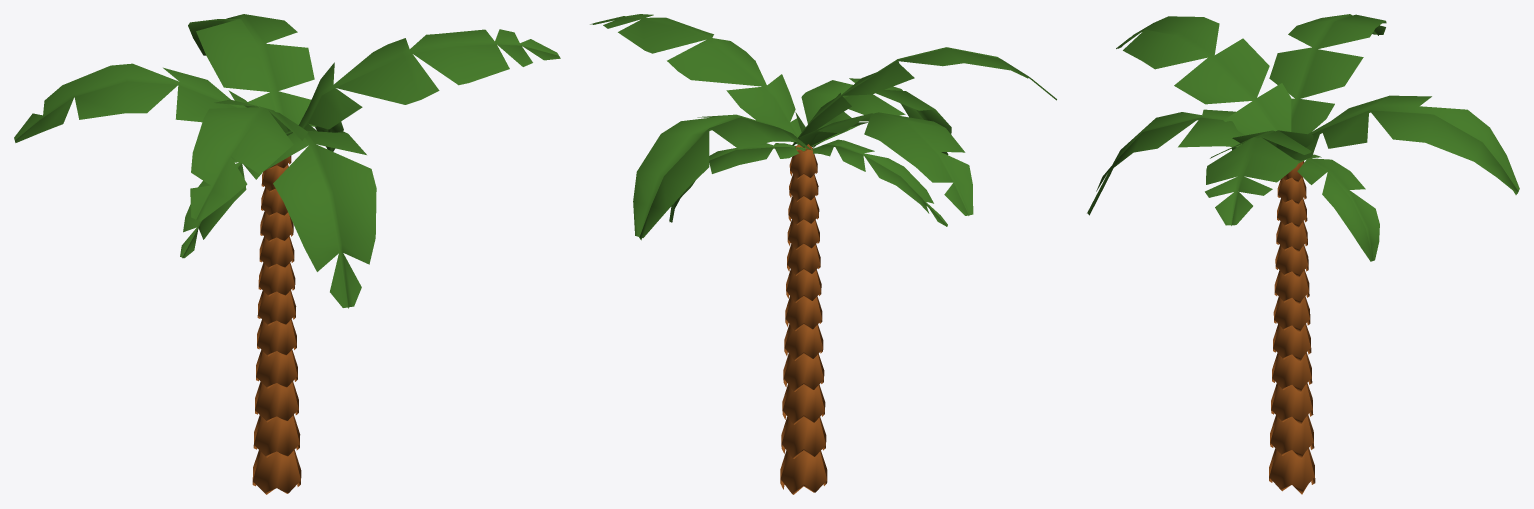
The model's file is SM_Palm_Tree_D.fbx.
3 views of the same model, side by side, from view 1: azimuth 30°, elevation 25°; view 2: azimuth 150°, elevation 25°; view 3: azimuth 270°, elevation 25° (orthographic). The views are drawn at different scales.
Visible parts, largest first — view 1: SM_Palm_Tree_D.001; view 2: SM_Palm_Tree_D.001; view 3: SM_Palm_Tree_D.001.
Part boxes in pixels (left/top/right/bottom): SM_Palm_Tree_D.001: left=14, top=14, right=560, bottom=494; SM_Palm_Tree_D.001: left=590, top=14, right=1056, bottom=494; SM_Palm_Tree_D.001: left=1087, top=14, right=1519, bottom=494.
Size of the model in its own units: 943 by 793 by 838.
